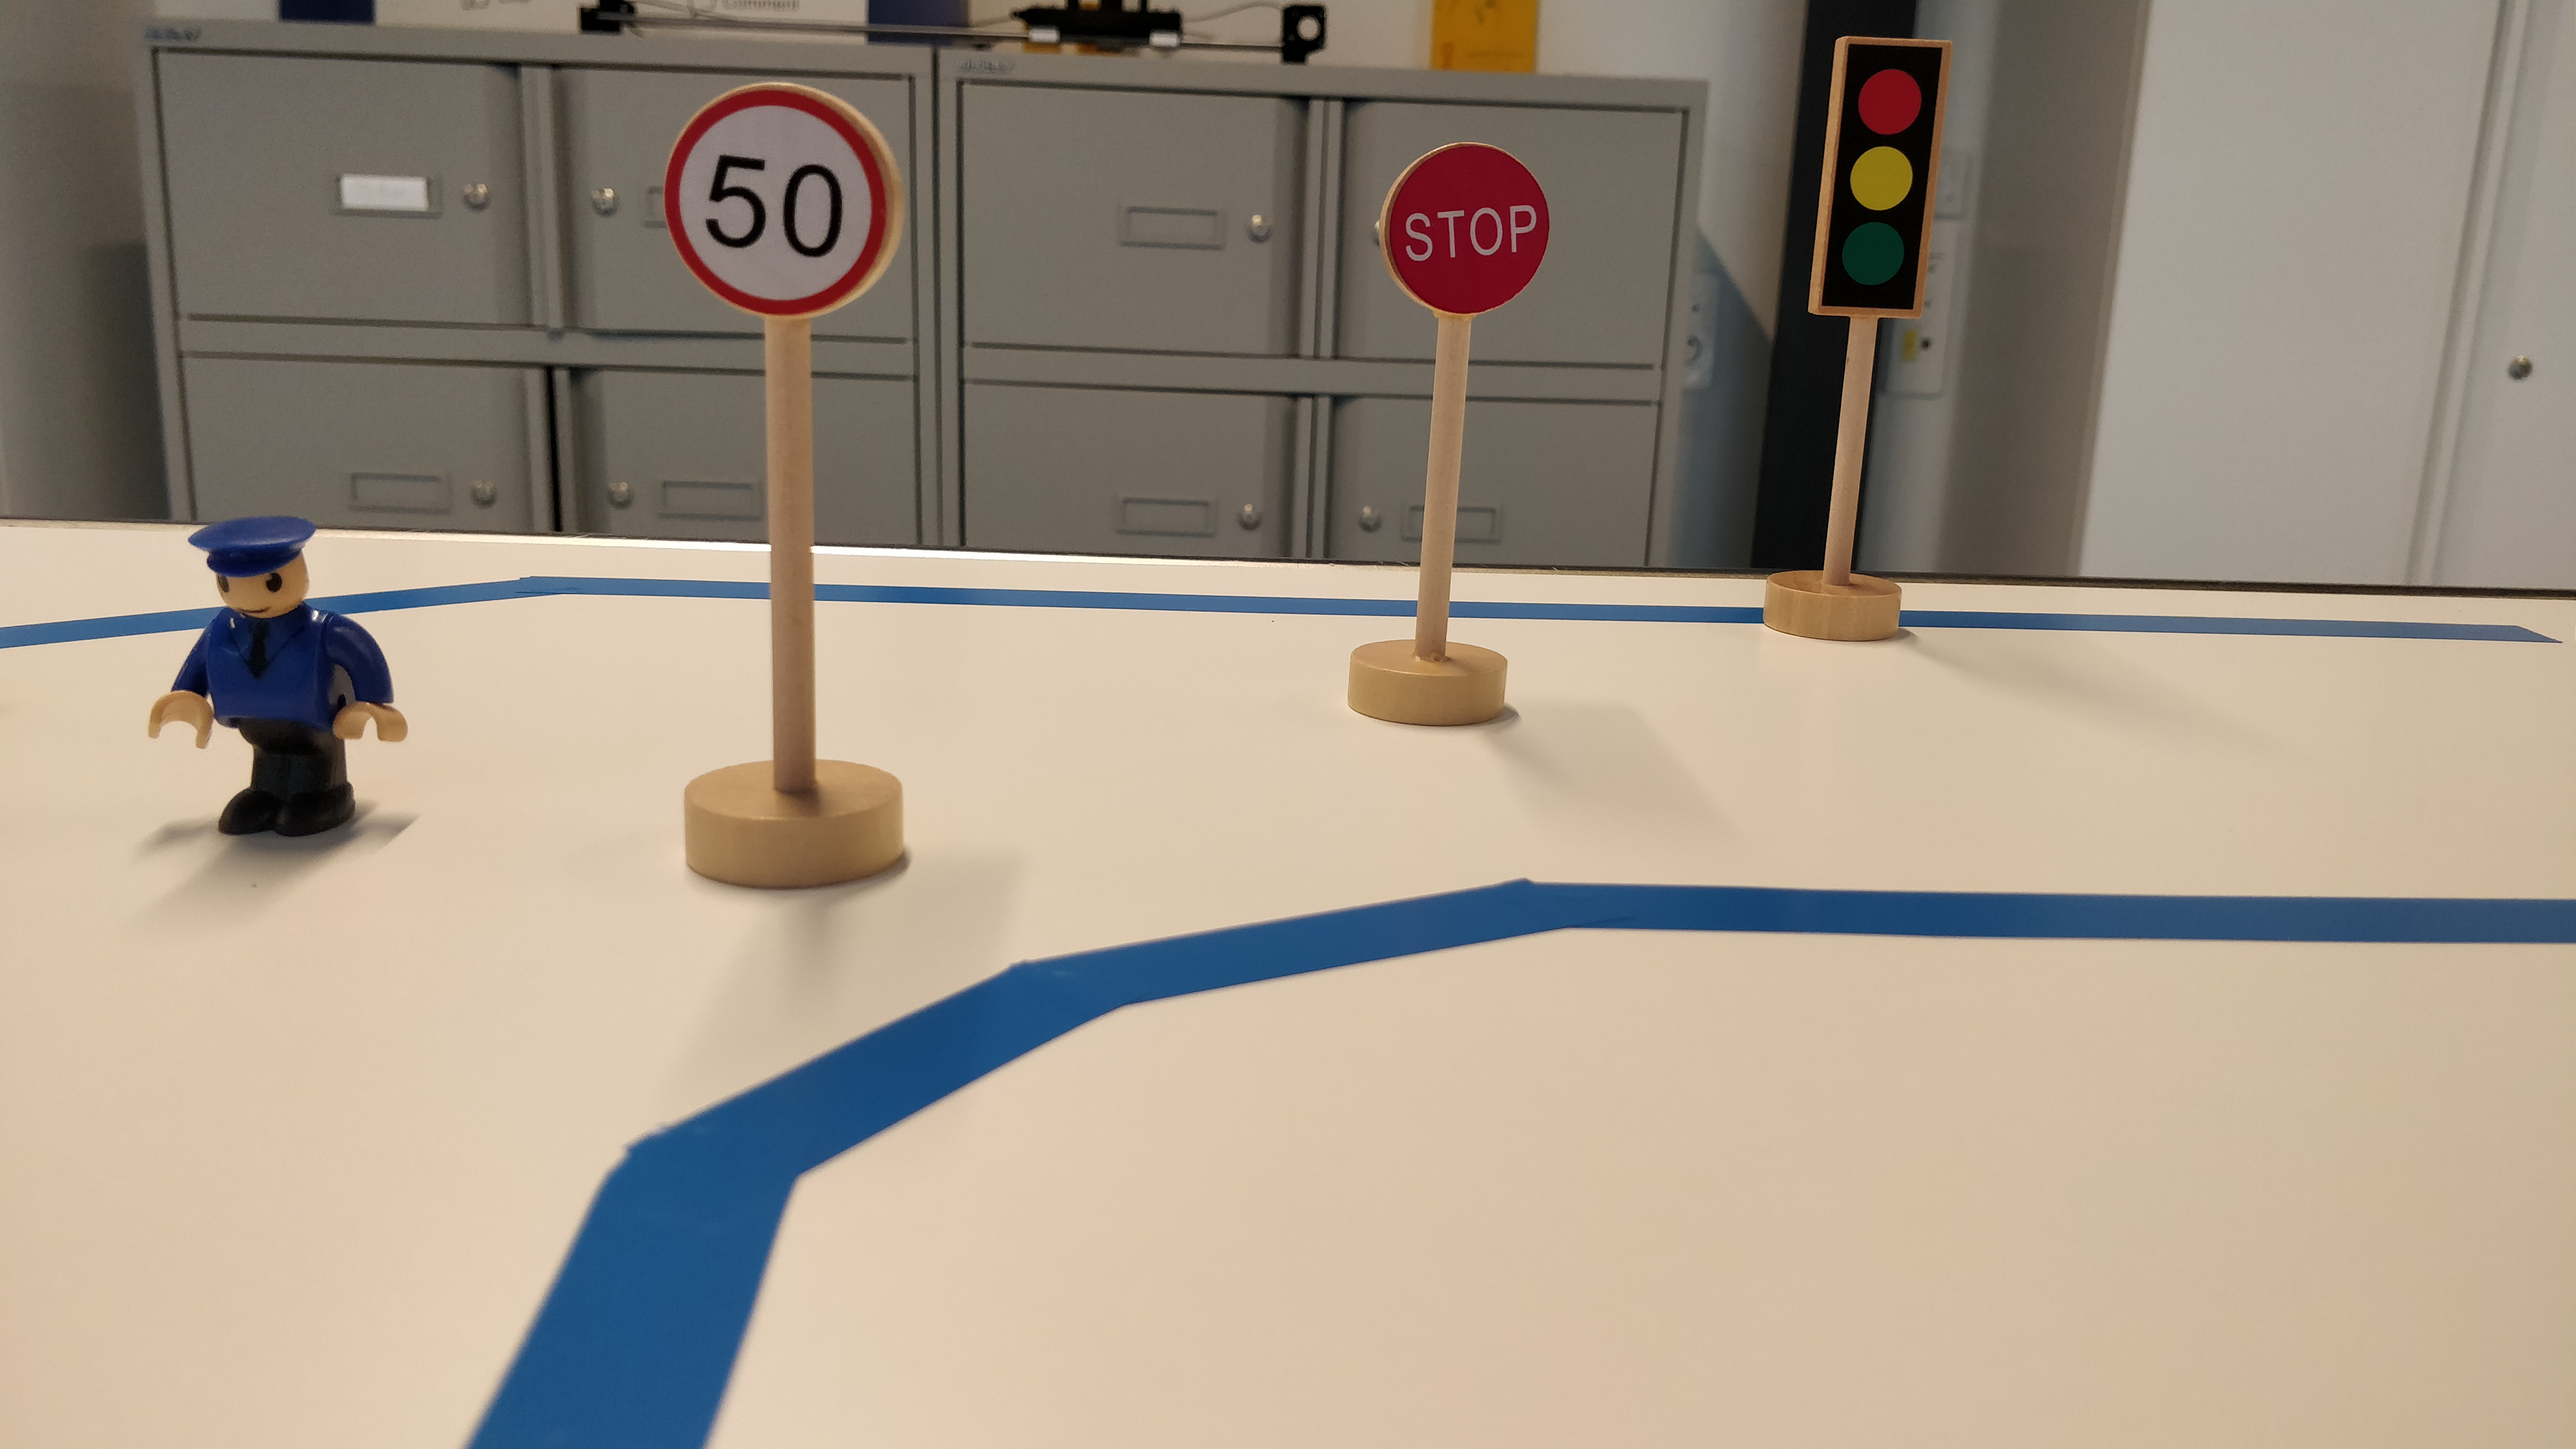Person: (146, 512, 415, 850)
Speed Limit 50: (657, 78, 913, 324)
Stop Sign: (1375, 139, 1557, 325)
Traffic Light: (1801, 31, 1954, 325)
